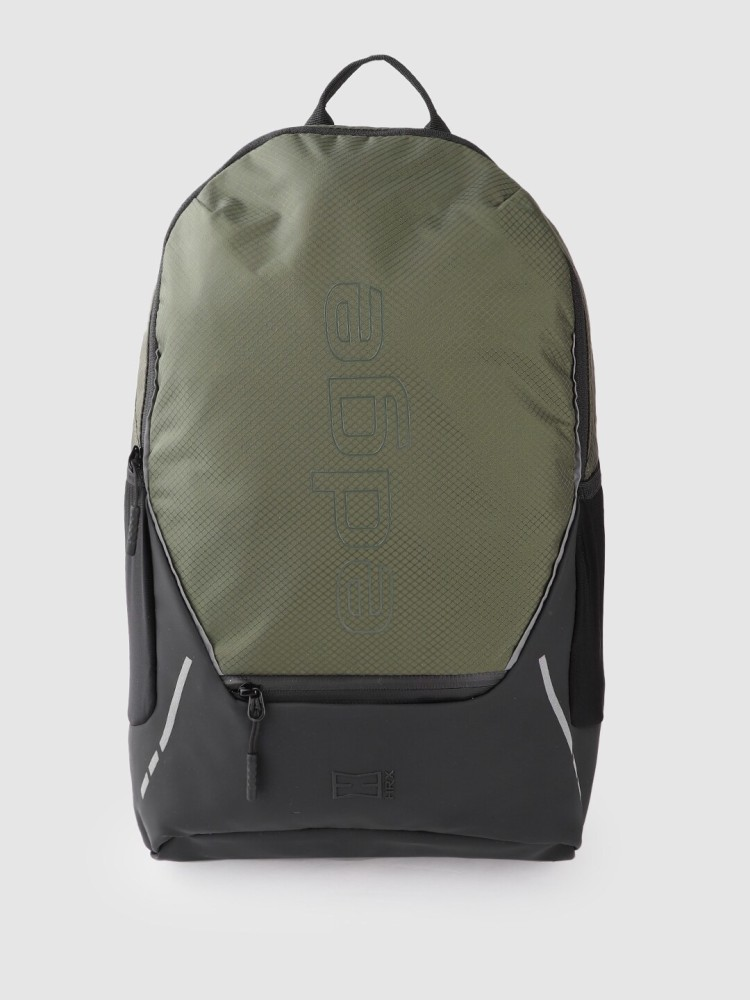backpack: (122, 53, 606, 862)
